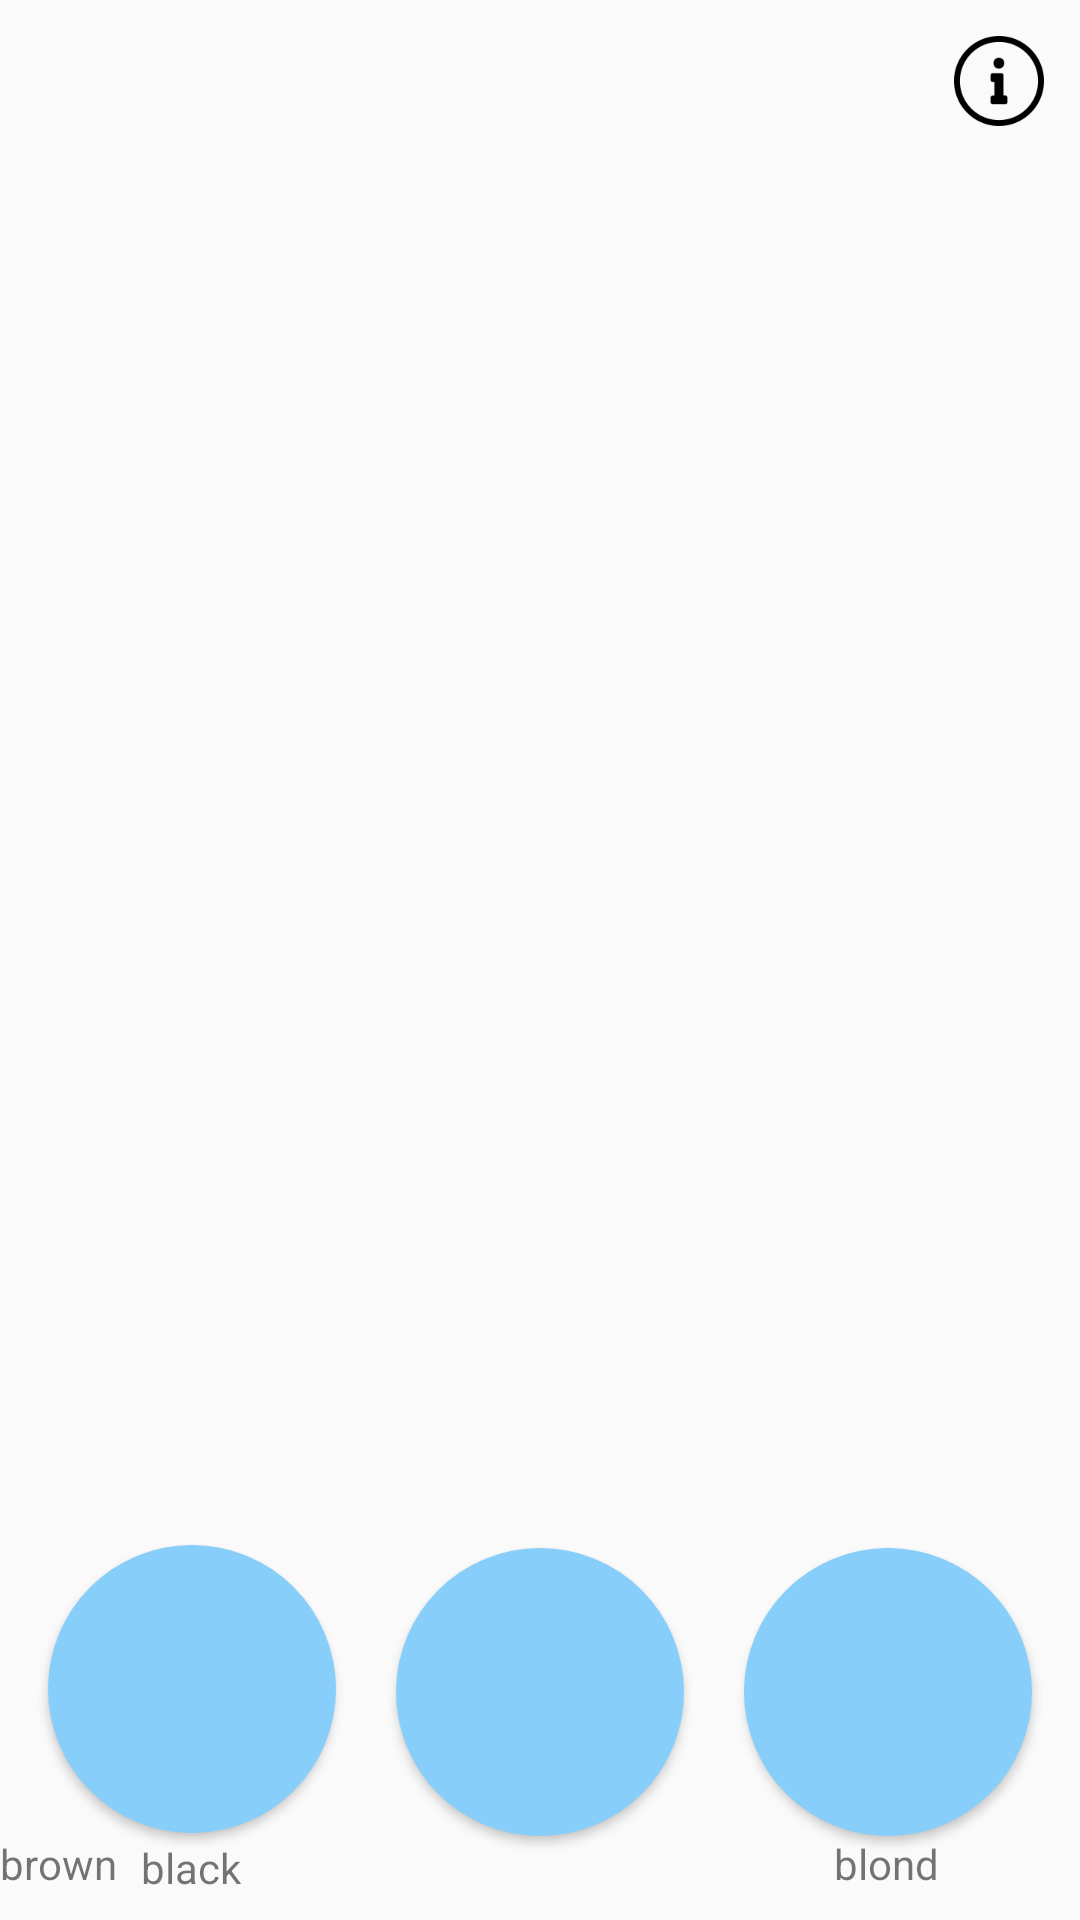

Point at icon controls on the screen. Image size 1080x1920, points as point (x, y).
information: point (999, 81)
